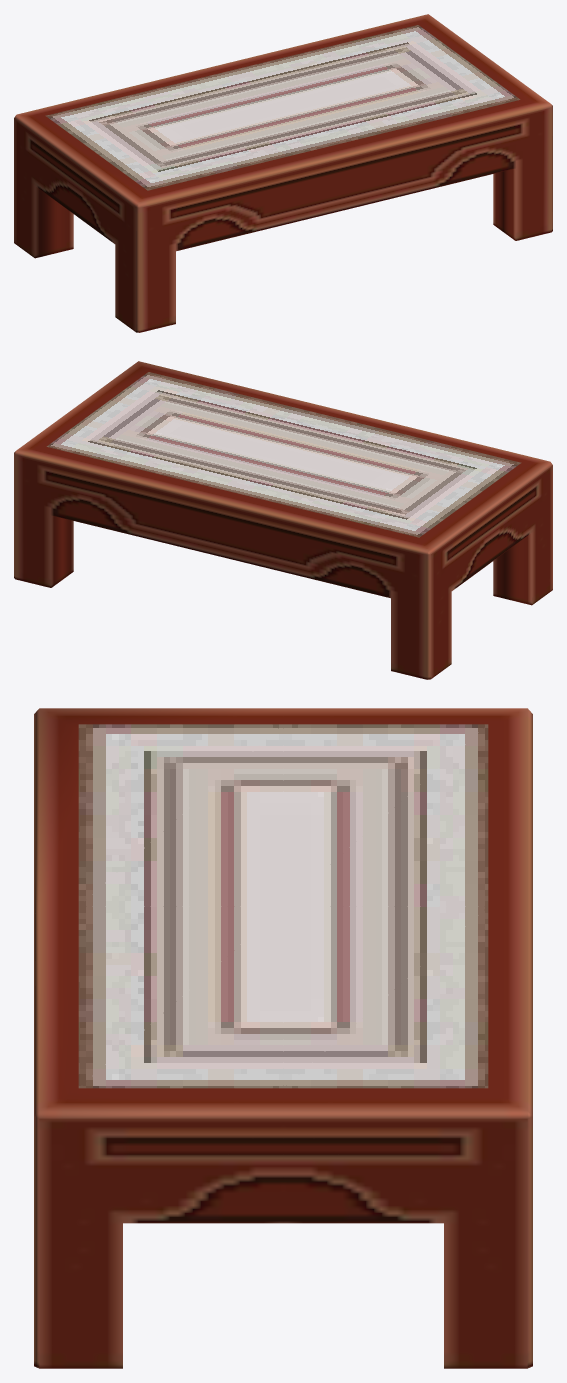
File: rmk_chc_tableM.dae
3 renders of one model, top to bottom at view 1: azimuth 30°, elevation 25°; view 2: azimuth 150°, elevation 25°; view 3: azimuth 270°, elevation 25°, orthographic. The views are drawn at different scales.
Parts seen in each view (by area): view 1: rmk_chc_tableM; view 2: rmk_chc_tableM; view 3: rmk_chc_tableM.
Part boxes in pixels (<box>): rmk_chc_tableM: <box>14,14,552,332</box>; rmk_chc_tableM: <box>14,361,552,679</box>; rmk_chc_tableM: <box>34,708,532,1368</box>.
Size of the model in its own units: 54 by 16 by 28.
2 materials, 2 textured.
